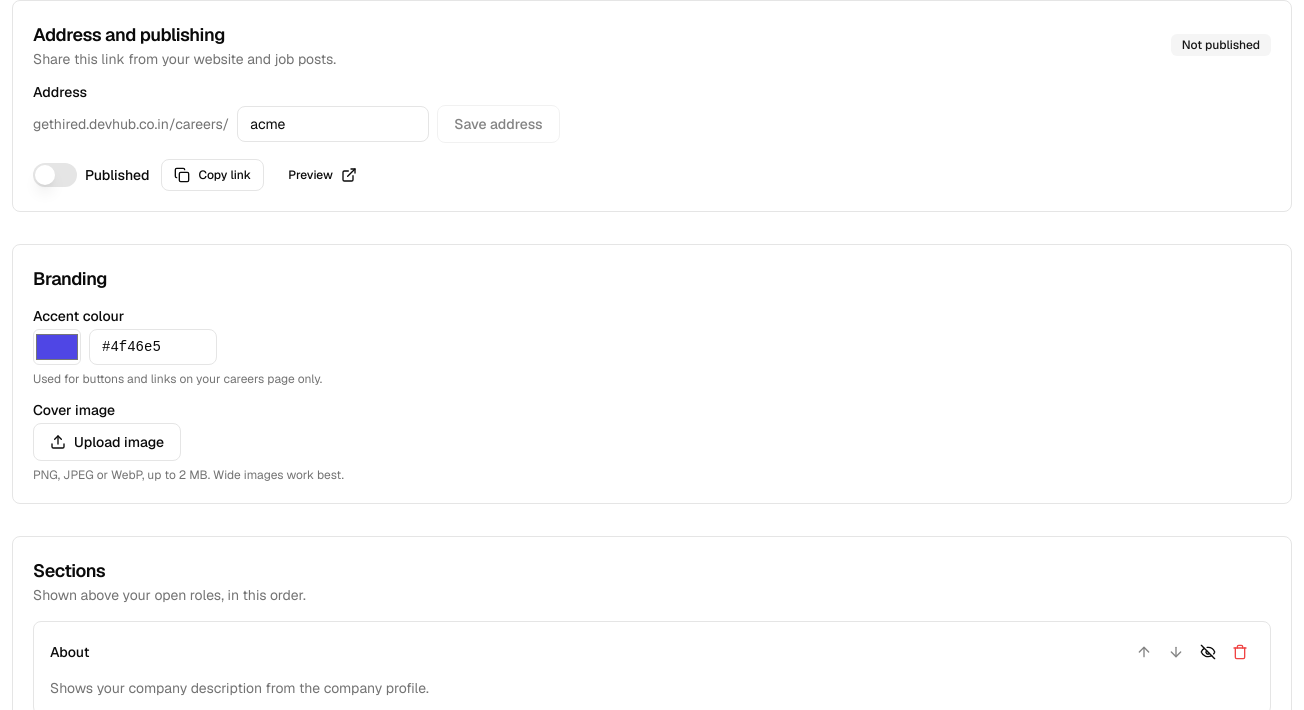
Test: CareersEditor (CP-REQ-012, CPT-052) › explains an unreadable accent and won't save it (CP-REQ-009)
Replace the text in the field labelled "Accent colour" with "#fde047": (153, 347) x1=89 y1=329 x2=217 y2=365
(page scrolled)
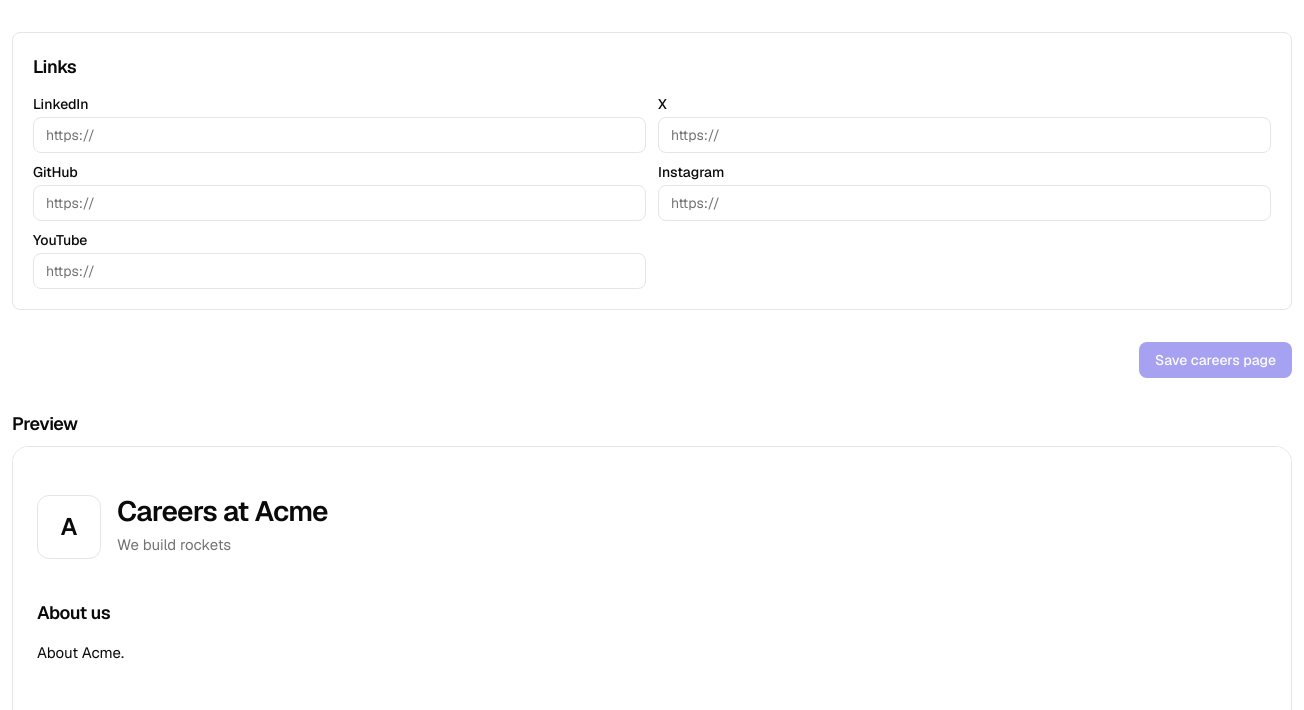
Check: the button "Save careers page" is disabled, box x1=1139 y1=342 x2=1292 y2=378
